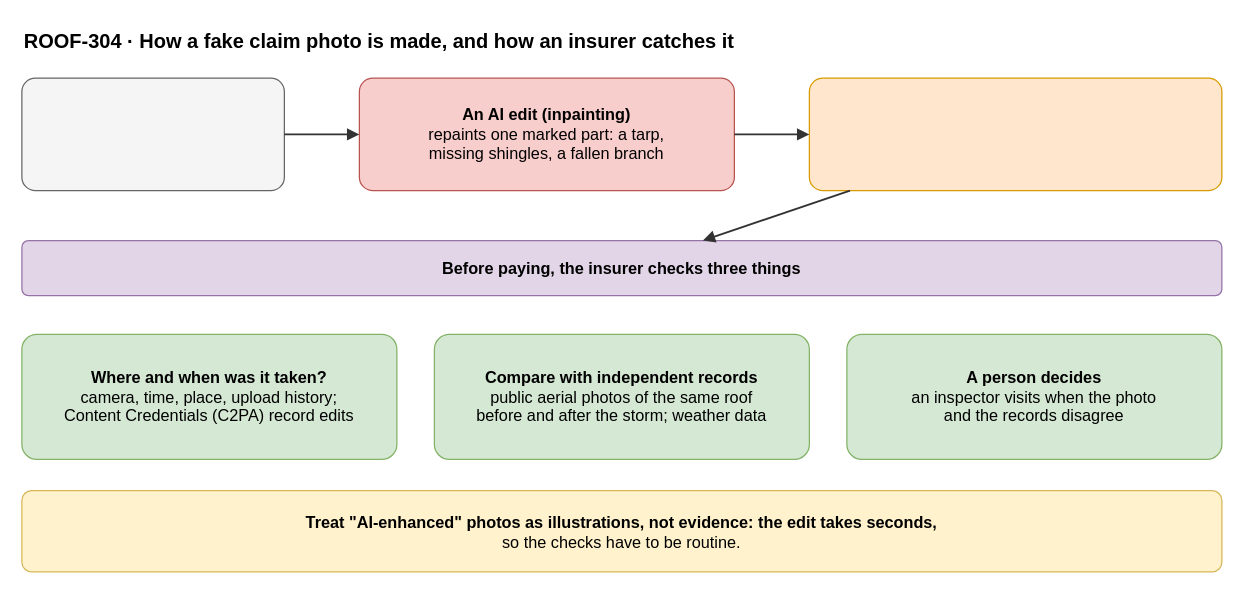
This 1244x594 diagram has some shape labels left out. The box of each missing label's shape, as (x1, y1, x2, y2) in pixels:
A claim photo that looks real made in seconds, no storm and no camera needed: (808, 77, 1222, 191)
A roof photo a real home's, or a house an AI made up: (21, 77, 284, 191)
